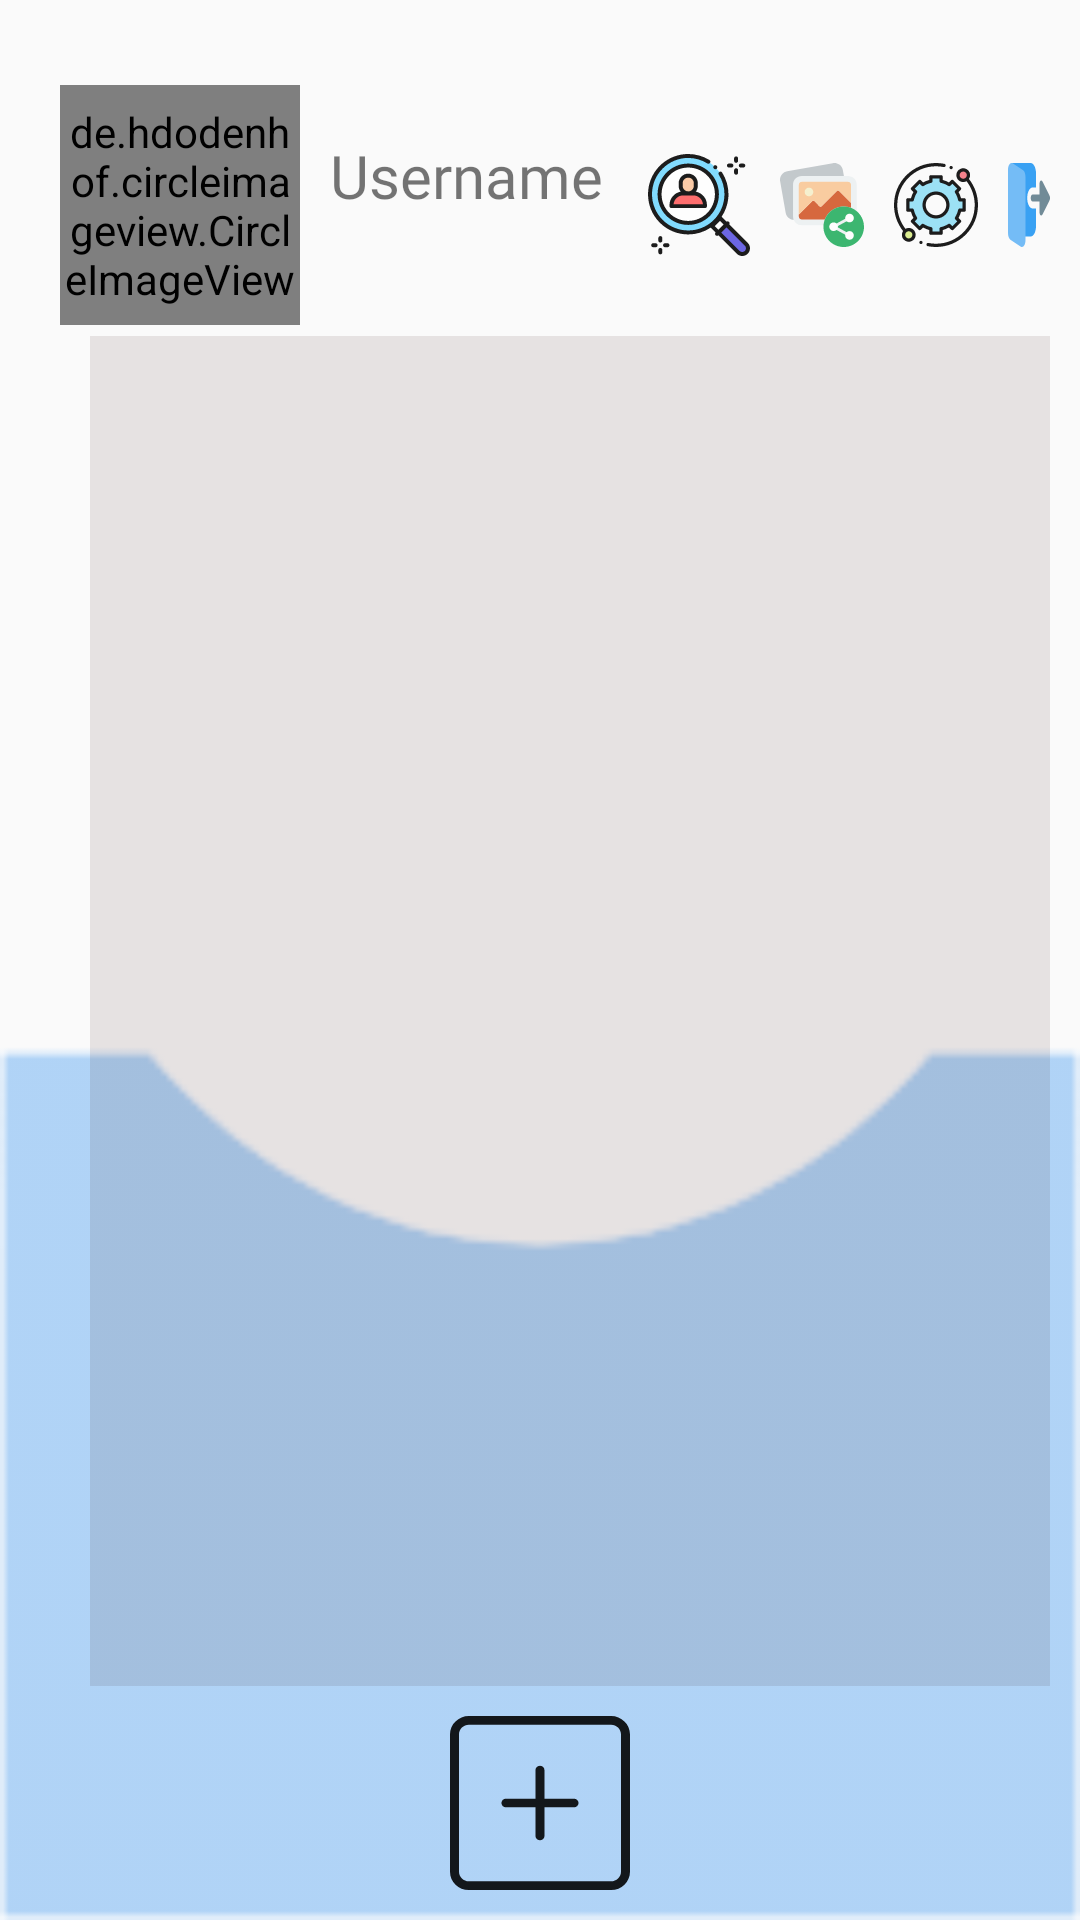

Named icons in this screenshot (1080×1920) and their centers, (x=x, y=y):
add card: (x=540, y=1803)
find friend: (x=699, y=205)
open share: (x=822, y=205)
setting: (x=936, y=205)
